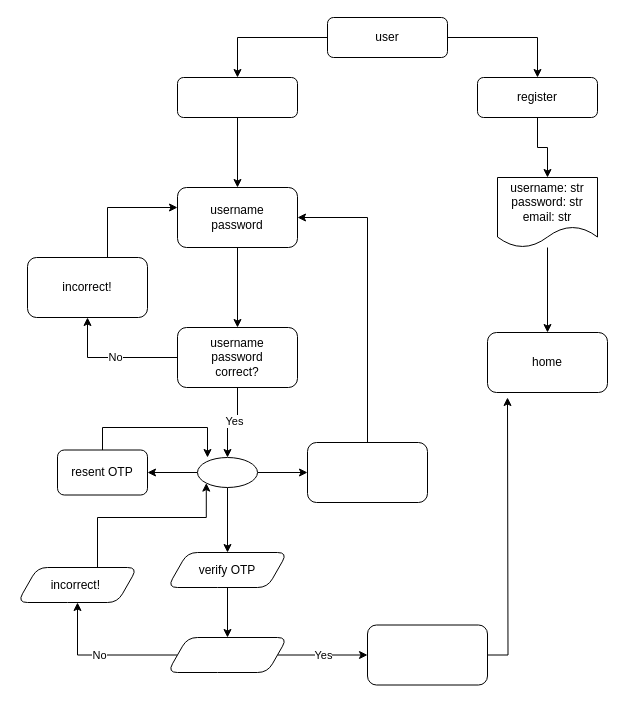
The diagram is 625 pixels wide and 703 high, and some of its shapes have lost their labels. The centre of each missing label's shape, as x and y in pixels:
"change login" belongs at point 367,472.
"correct OTP?" belongs at point 227,654.
"login" belongs at point 237,97.
"OTP" belongs at point 227,472.
"success!" belongs at point 427,654.
